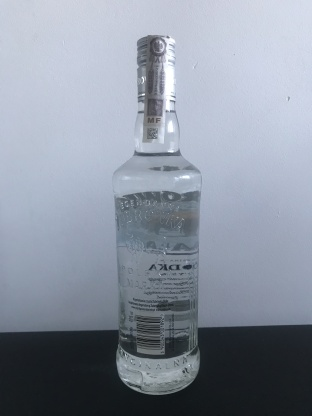nakretka: (134, 31, 178, 105)
